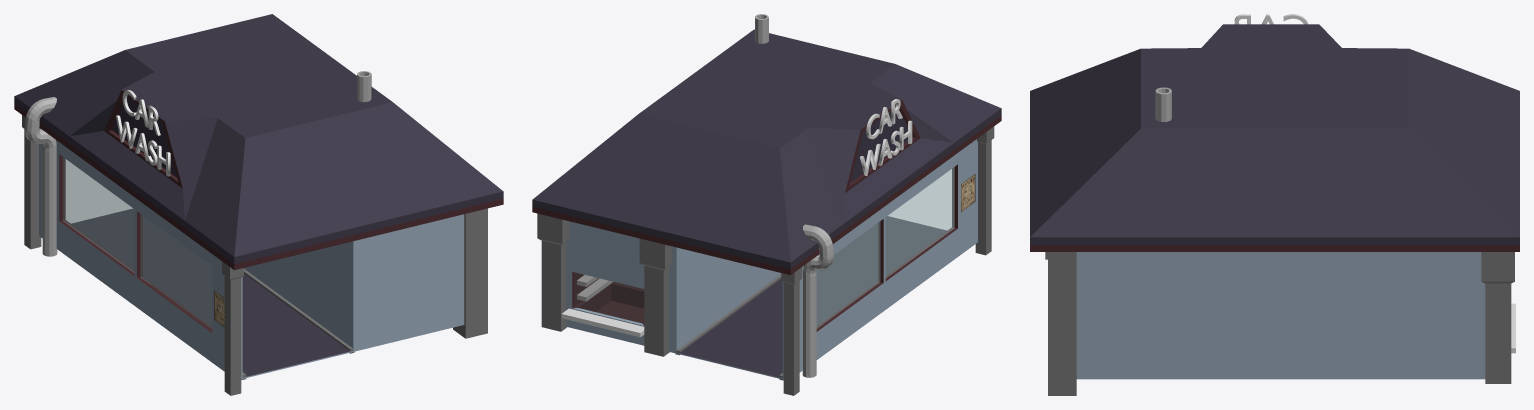
The model's file is car wash.glb.
3 renders of one model, left to right at view 1: azimuth 30°, elevation 25°; view 2: azimuth 150°, elevation 25°; view 3: azimuth 270°, elevation 25°, orthographic. The views are drawn at different scales.
Visible parts, largest first — view 1: base building, glass, Cube.001, Cylinder, Cube.005, Cube.004, Text, Cube.008, Cylinder.001; view 2: base building, glass, Cube.002, Cube.003, glass.001, Cylinder, Cube.004, Cube.005, Text, Cube, Cube.008, Plane; view 3: base building, Cube.001, Cube.002, Cylinder.001.
Part boxes in pixels (x1,y1,x2,y2): base building: (14, 14, 503, 379); glass: (62, 157, 212, 329); Cube.001: (453, 208, 487, 338); Cylinder: (25, 97, 57, 256); Cube.005: (222, 261, 243, 395); Cube.004: (22, 115, 41, 249); Text: (116, 90, 170, 176); Cube.008: (244, 269, 354, 353); Cylinder.001: (357, 71, 371, 102); base building: (532, 29, 1001, 379); glass: (816, 167, 954, 328); Cube.002: (537, 213, 569, 331); Cube.003: (639, 238, 671, 356); glass.001: (574, 272, 643, 323); Cylinder: (802, 224, 833, 377); Cube.004: (781, 267, 802, 395); Cube.005: (975, 126, 994, 255); Text: (860, 99, 912, 175); Cube: (561, 308, 644, 337); Cube.008: (675, 274, 781, 355); Plane: (961, 174, 975, 211); base building: (1030, 24, 1519, 379); Cube.001: (1048, 252, 1076, 395); Cube.002: (1481, 252, 1514, 383); Cylinder.001: (1155, 87, 1171, 121).
Size of the model in its own units: 8.9 by 7.12 by 11.88.
Materials: 8 (1 with a texture image).
